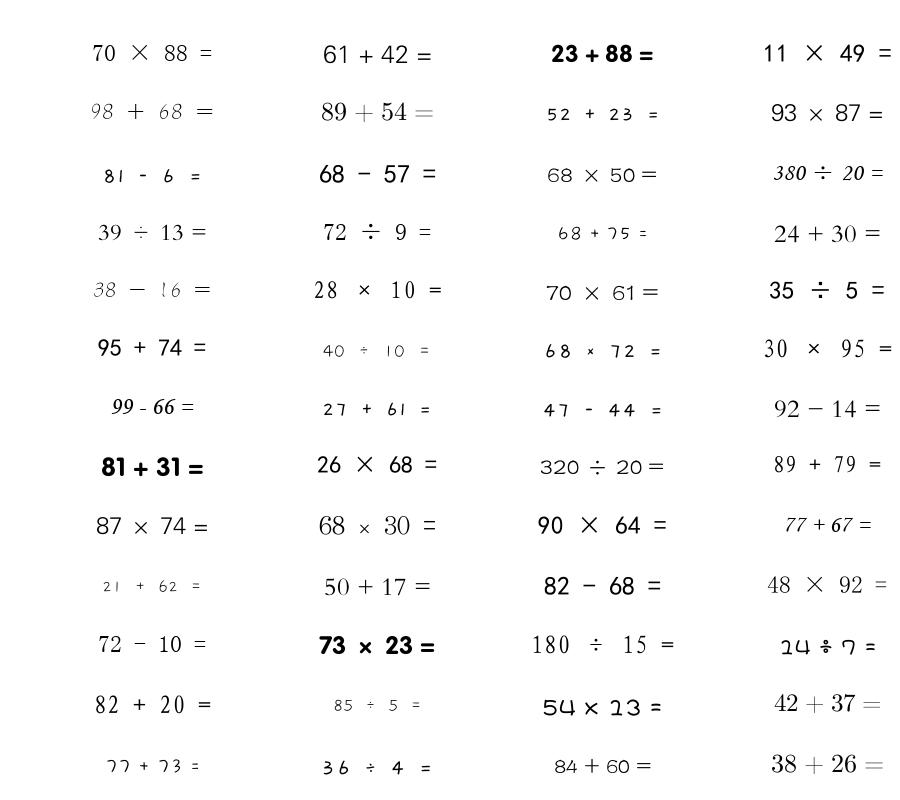MQ: (531, 635, 674, 654), (762, 339, 892, 358), (538, 516, 667, 535), (321, 102, 434, 123), (771, 754, 884, 775), (319, 515, 436, 535), (763, 44, 892, 62), (313, 281, 442, 299), (319, 635, 435, 655), (319, 164, 436, 183), (544, 576, 661, 595), (94, 695, 211, 714), (774, 694, 881, 714), (769, 281, 885, 299), (323, 45, 432, 64), (101, 457, 204, 477), (92, 44, 212, 61), (317, 456, 437, 473), (767, 576, 887, 593), (542, 699, 662, 716), (771, 104, 884, 122), (96, 517, 209, 535), (90, 103, 214, 119), (773, 455, 881, 473), (551, 44, 653, 63), (774, 225, 881, 243), (774, 400, 881, 418), (324, 578, 431, 596), (93, 282, 211, 298), (540, 460, 664, 475), (98, 224, 207, 241), (323, 223, 431, 240), (98, 339, 206, 356), (98, 636, 206, 652), (546, 285, 659, 300), (542, 403, 663, 417), (321, 760, 433, 775), (543, 344, 662, 358), (772, 166, 883, 181), (779, 639, 876, 655), (554, 758, 651, 774), (547, 168, 657, 182), (322, 402, 432, 416), (545, 108, 660, 121), (105, 759, 200, 774), (323, 345, 431, 358), (102, 169, 202, 183), (557, 226, 648, 241), (783, 517, 871, 532), (102, 580, 202, 593), (110, 399, 194, 414), (333, 699, 422, 712)
